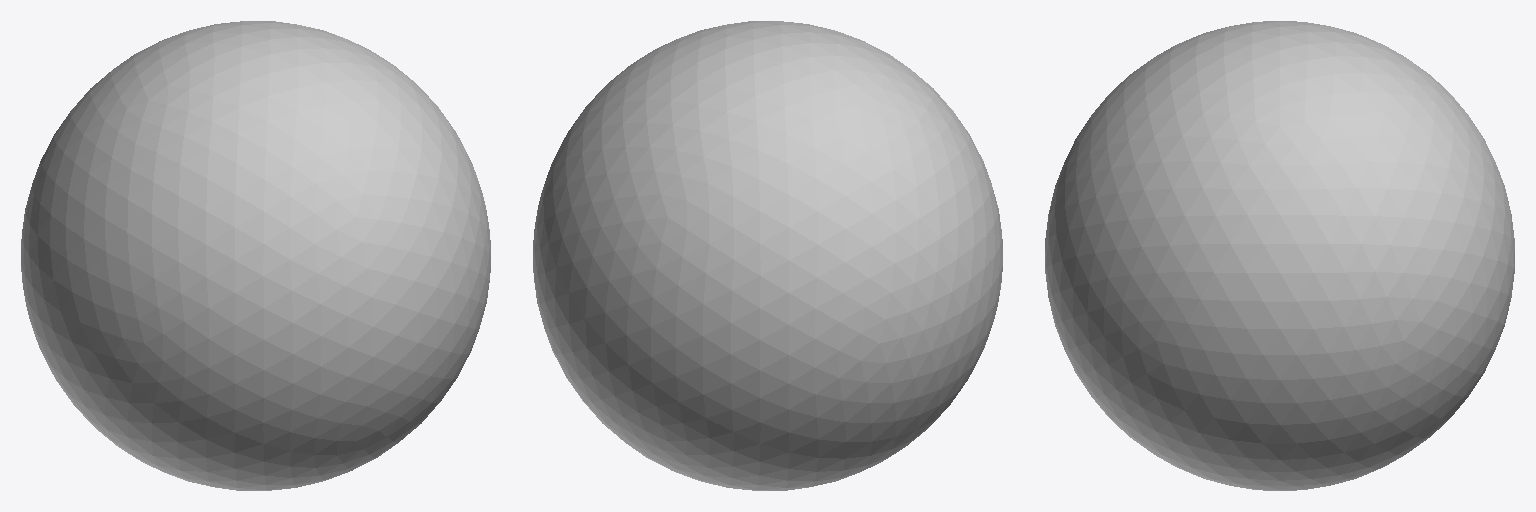
The model's file is sphere_different_texcoords.obj.
3 renders of one model, left to right at view 1: azimuth 30°, elevation 25°; view 2: azimuth 150°, elevation 25°; view 3: azimuth 270°, elevation 25°, orthographic.
Bounding box in the file's own units: 1.99 × 2 × 2.